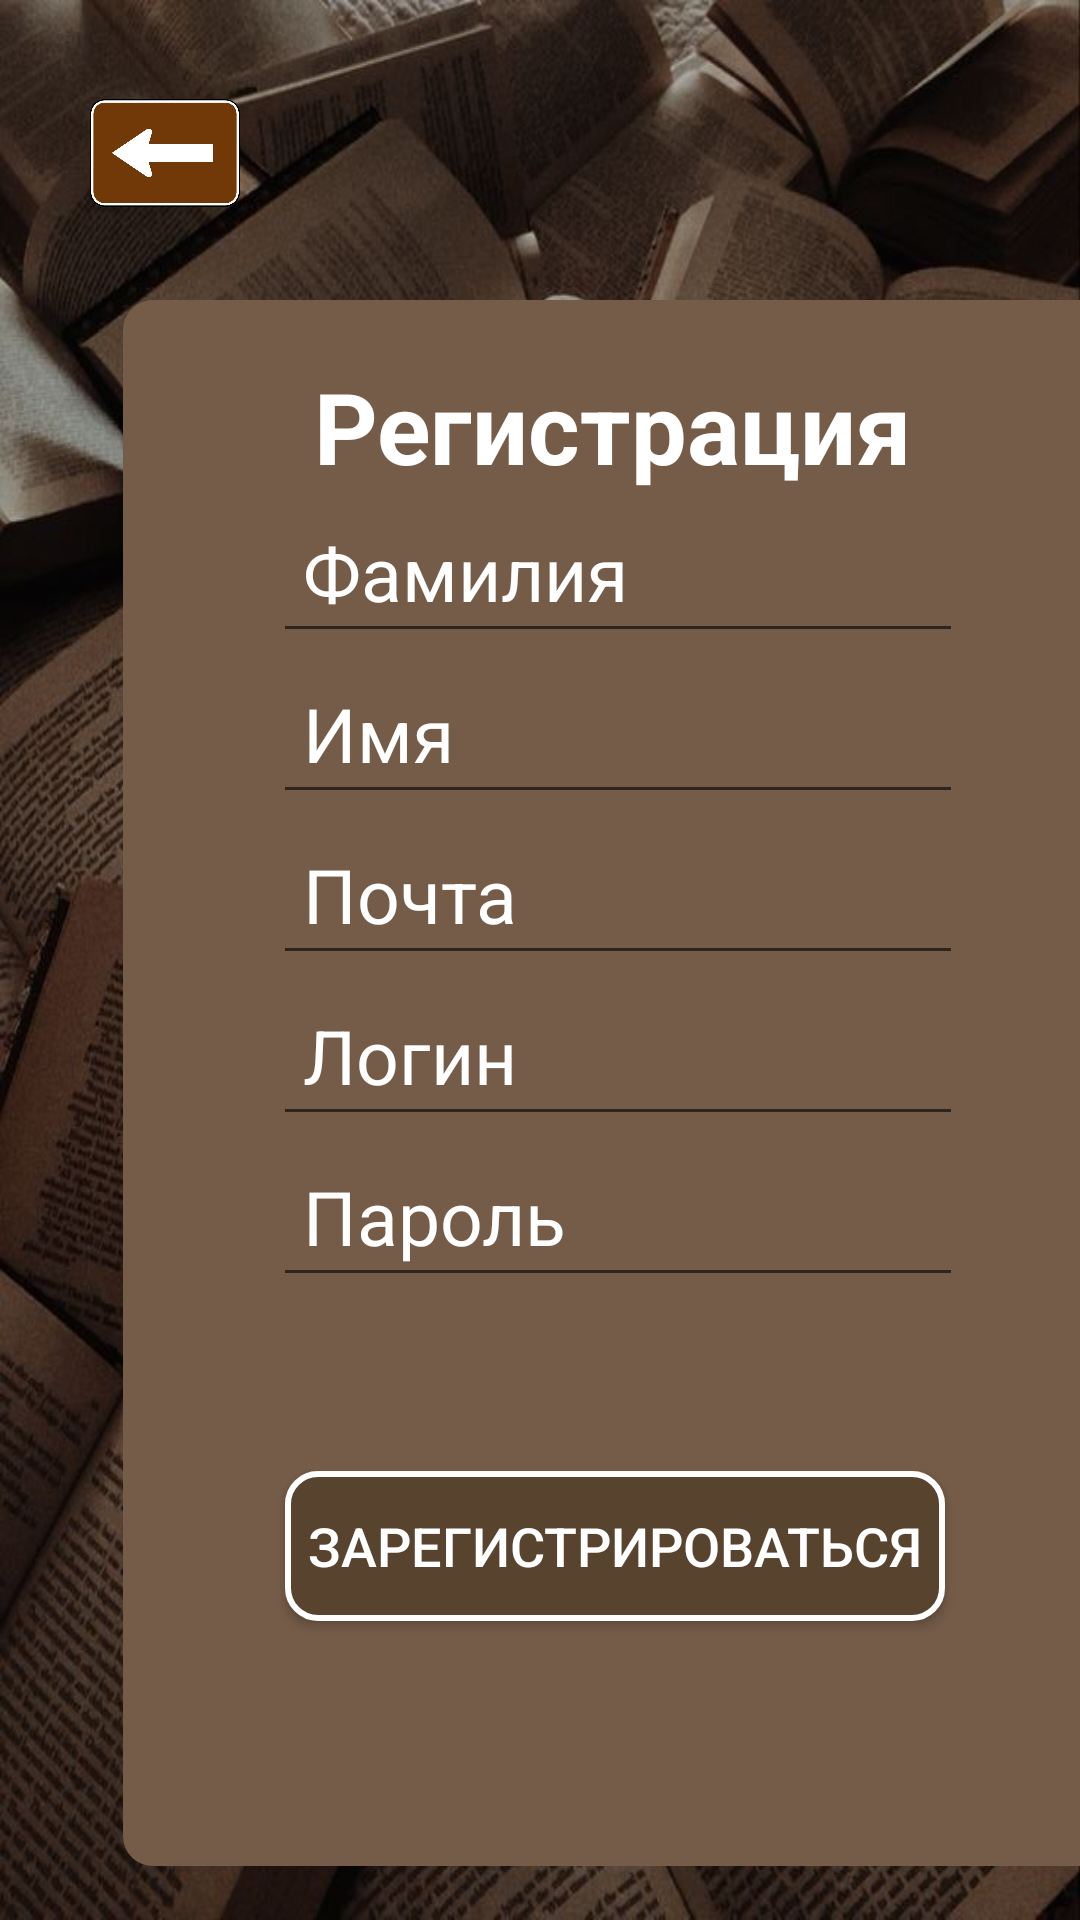

Where to tap for icons on this 1080px×1920px app screen, as [x,y]:
bac: [165,160]
